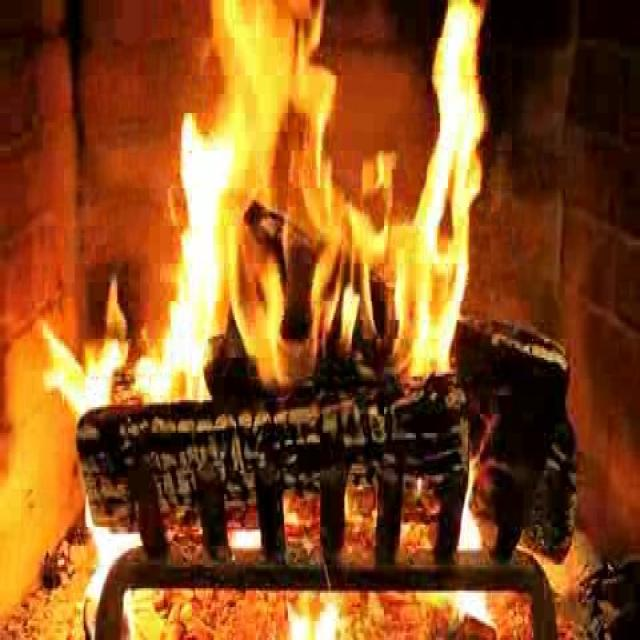fire: (177, 3, 479, 403)
